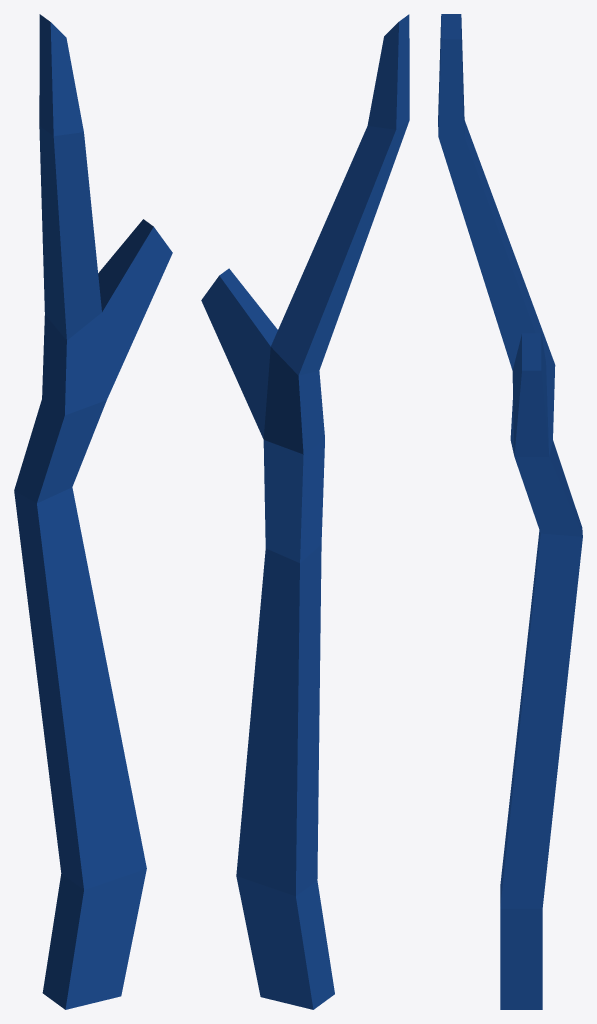
The model's file is ast_1.FBX.
3 views of the same model, side by side, from view 1: azimuth 30°, elevation 25°; view 2: azimuth 150°, elevation 25°; view 3: azimuth 270°, elevation 25° (orthographic). The views are drawn at different scales.
Visible parts, largest first — view 1: Box002; view 2: Box002; view 3: Box002.
Boxes of the visible parts, x1=… form: Box002: x1=14, y1=14, x2=172, y2=1009; Box002: x1=201, y1=14, x2=409, y2=1009; Box002: x1=438, y1=14, x2=582, y2=1009.
Bounding box in the file's own units: 6.36 × 37.5 × 5.19.
